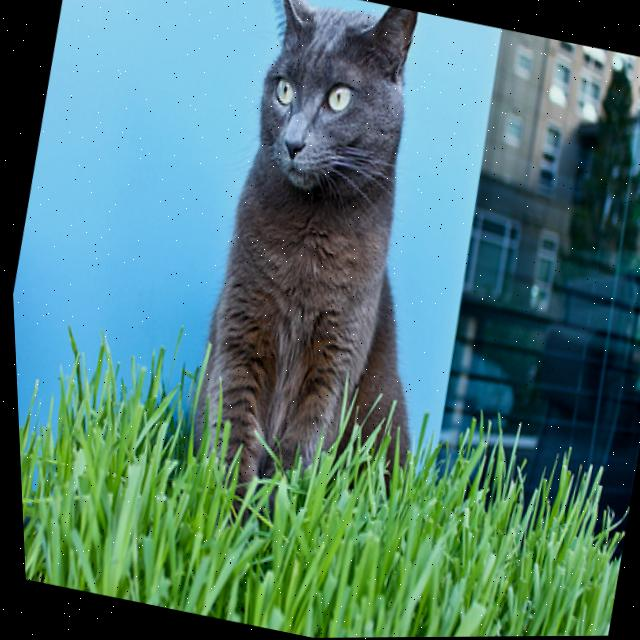Russian Blue: (156, 0, 502, 521)
